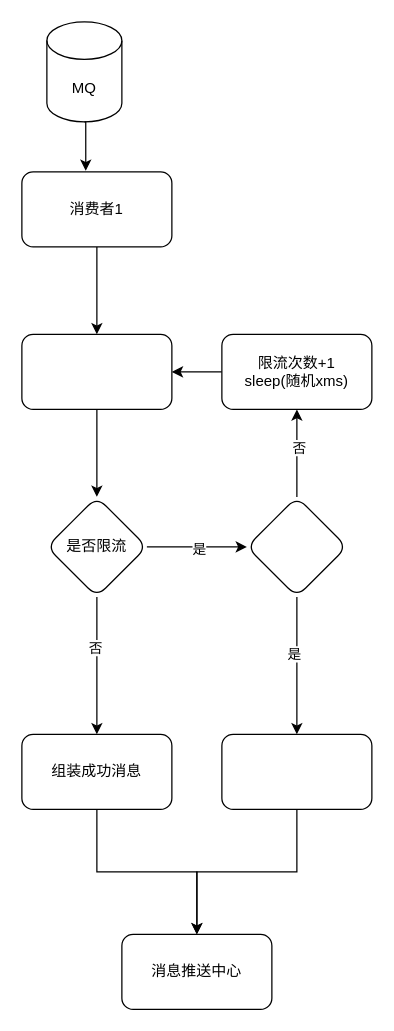
Some shapes in this 394 by 1031 pixel diagram are drawn without their labels. The centre of each missing label's shape, as x and y in pixels:
"组装失败消息" goes at (296,771).
"调用转链服务,如果限流超过x次，添加参数不再触发转链限流" goes at (96,371).
"限流次数>x" goes at (296,546).
